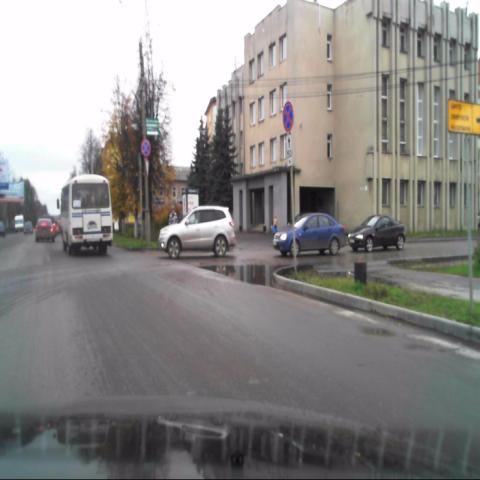8_2_2: (286, 136, 294, 166)
